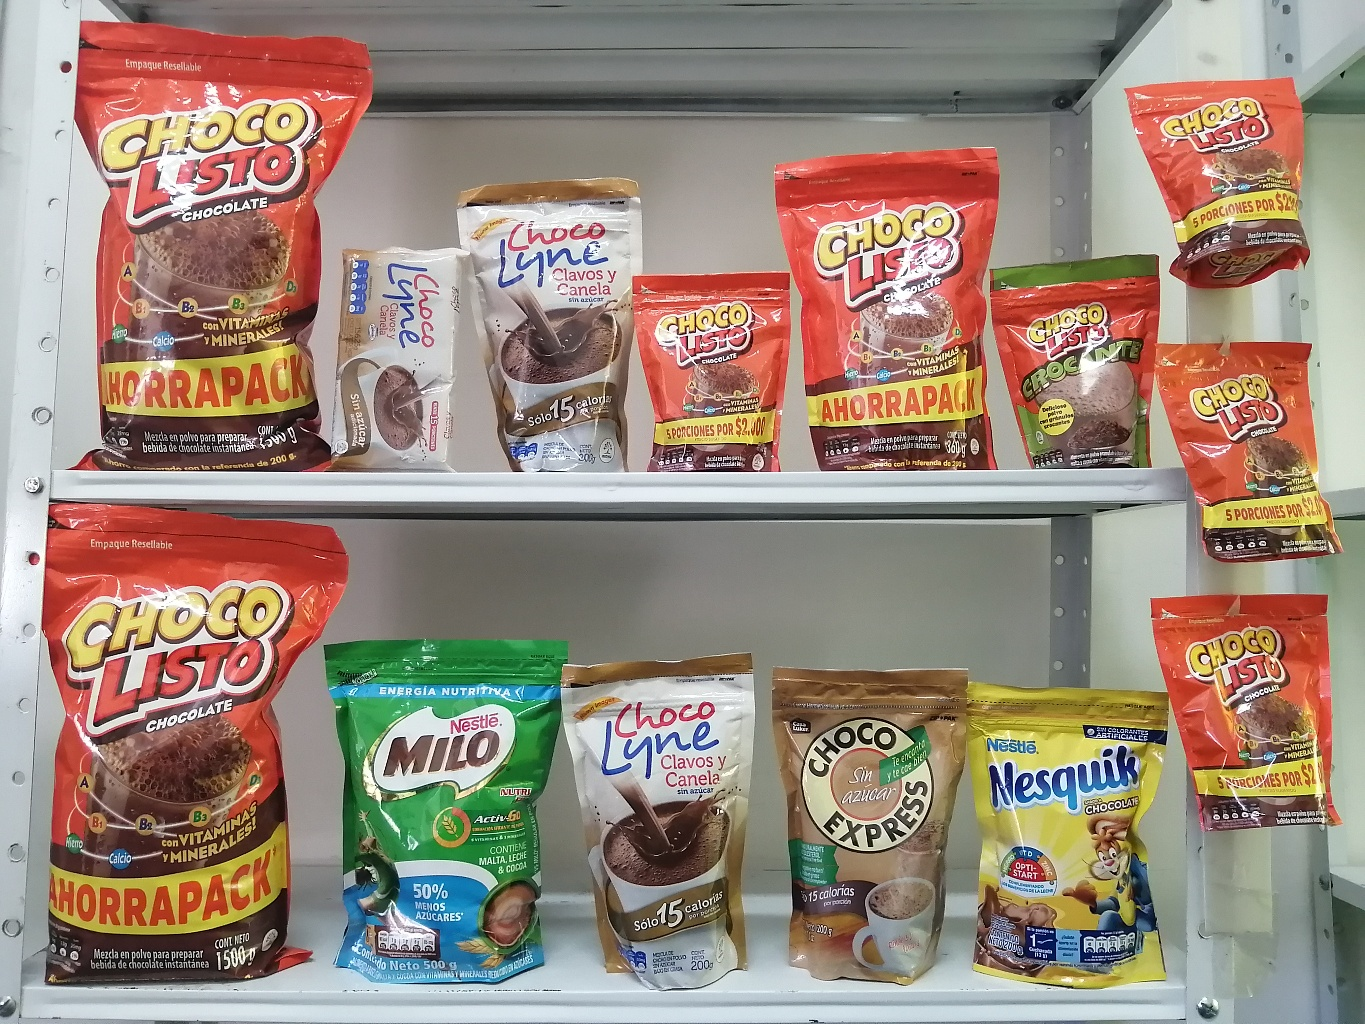COL0170102DYP10000: (982, 240, 1169, 467)
COL0170103DYP1,500: (31, 490, 355, 984)
COL0170103DYP10000: (1121, 70, 1313, 291)
COL0170103DYP36000: (774, 143, 1011, 467)
COL0170205DYP50000: (314, 630, 586, 982)
COL0170303DYP20000: (967, 657, 1182, 982)
